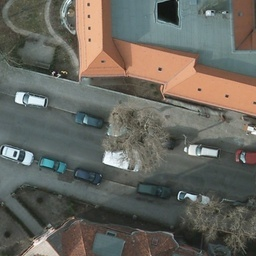car: (1, 144, 33, 167), (187, 139, 222, 160), (13, 89, 49, 108), (135, 180, 168, 200), (107, 122, 140, 140), (145, 134, 175, 151), (74, 112, 103, 127), (73, 168, 100, 183), (39, 159, 66, 173)
van: (102, 149, 142, 172)
